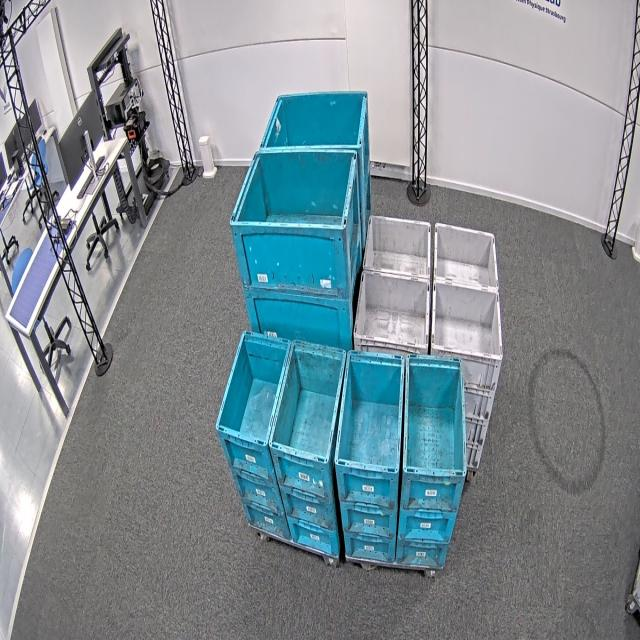Roll8G: (352, 211, 432, 353), (430, 218, 504, 364)
RollB4: (230, 148, 361, 235), (259, 88, 370, 152)
RollB8: (334, 345, 469, 488), (214, 328, 350, 469)
